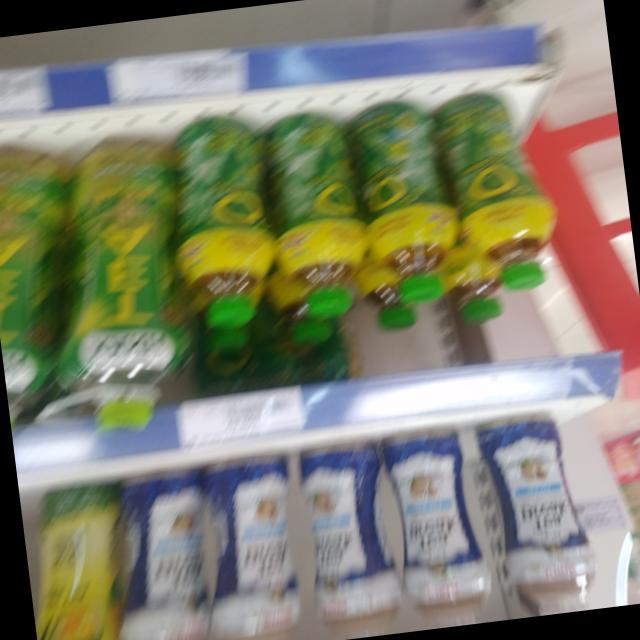tra xanh khong do: (444, 81, 566, 297), (164, 126, 288, 328), (264, 106, 374, 324), (350, 98, 458, 312)
